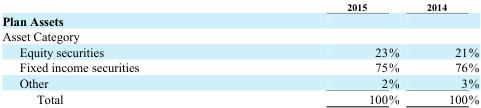table: (1, 0, 478, 105)
table column: (1, 0, 242, 105), (242, 0, 412, 105), (412, 0, 478, 105)
table column header: (1, 0, 478, 12)
table projected row header: (1, 12, 478, 28), (1, 28, 478, 43)
table row: (1, 12, 478, 28), (1, 43, 478, 59), (1, 74, 478, 90), (1, 28, 478, 43), (1, 59, 478, 74), (1, 90, 478, 105), (1, 0, 478, 12)
